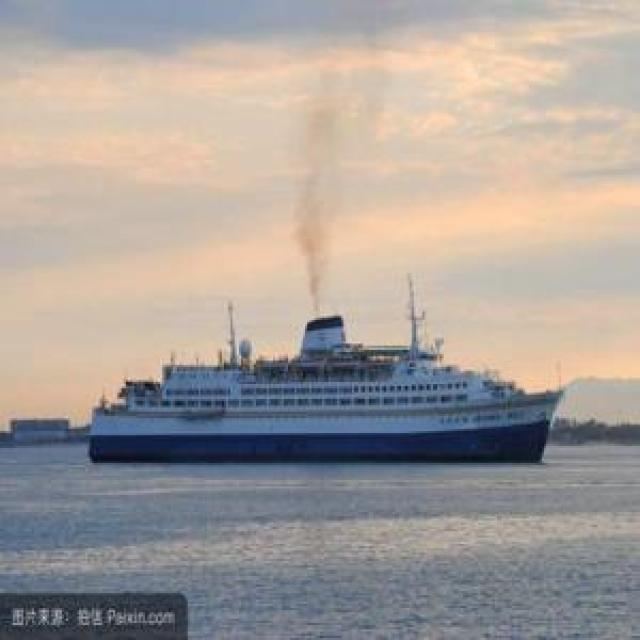passenger ship: (86, 305, 563, 465)
